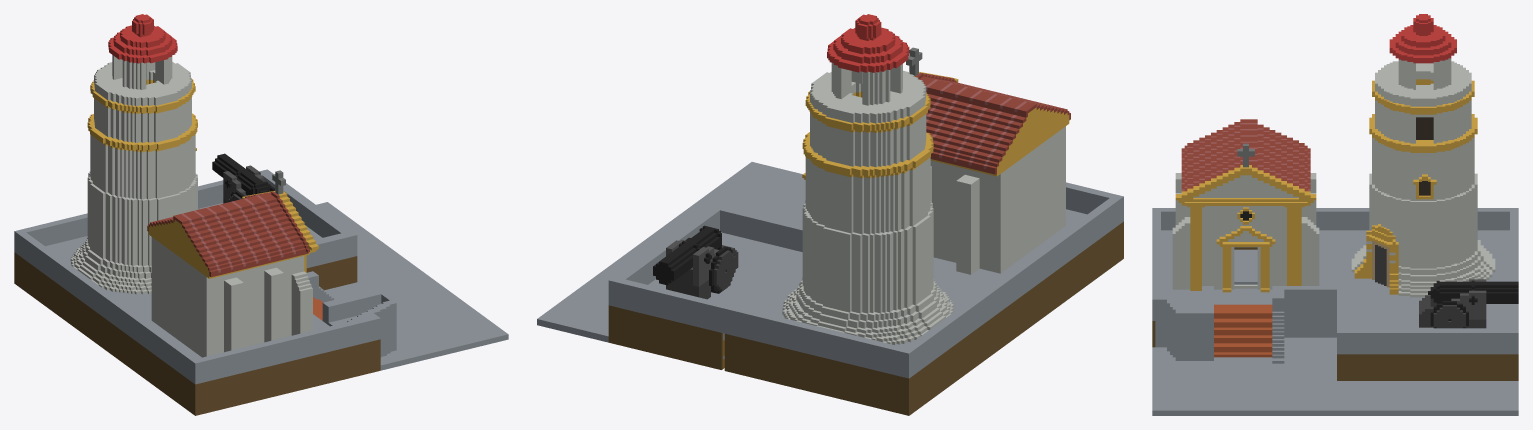
Rendered from 210508guiafffff.obj.
3 views of the same model, side by side, from view 1: azimuth 30°, elevation 25°; view 2: azimuth 150°, elevation 25°; view 3: azimuth 270°, elevation 25° (orthographic). The views are drawn at different scales.
Bounding box in the file's own units: 12.5 × 10.7 × 12.5.
1 material, 1 textured.
